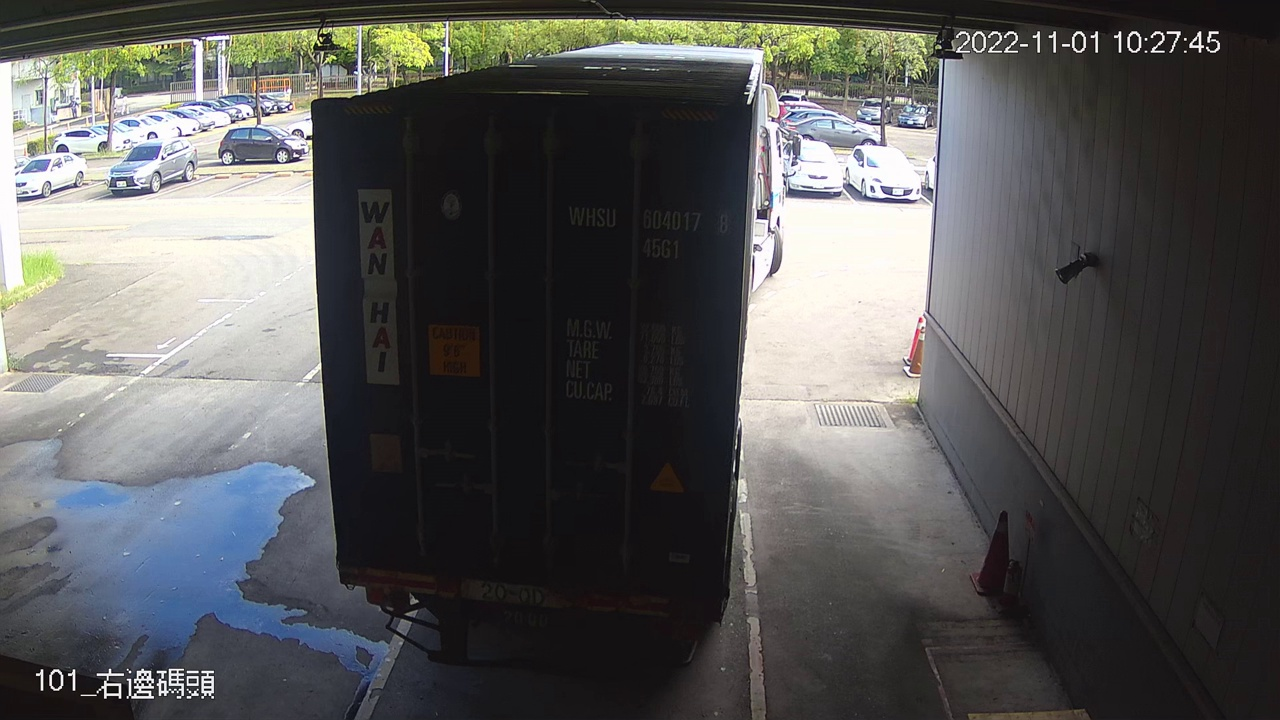container: (562, 198, 737, 265)
